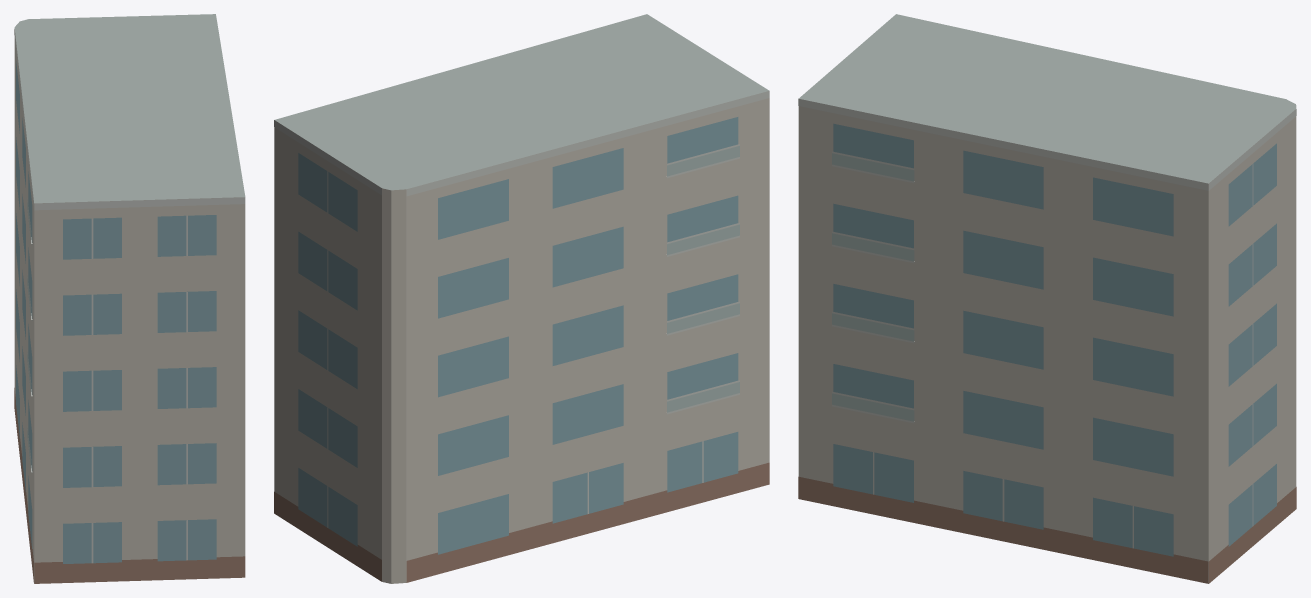
File: survey-upis-32733037.glb
3 renders of one model, left to right at view 1: azimuth 30°, elevation 25°; view 2: azimuth 150°, elevation 25°; view 3: azimuth 270°, elevation 25°, orthographic. The views are drawn at different scales.
Parts seen in each view (by area): view 1: survey-upis-32733037.tmp; view 2: survey-upis-32733037.tmp; view 3: survey-upis-32733037.tmp.
Part boxes in pixels (<box>): survey-upis-32733037.tmp: <box>14,14,245,583</box>; survey-upis-32733037.tmp: <box>274,14,769,583</box>; survey-upis-32733037.tmp: <box>798,14,1296,583</box>.
Size of the model in its own units: 12.18 by 13.4 by 15.12.
